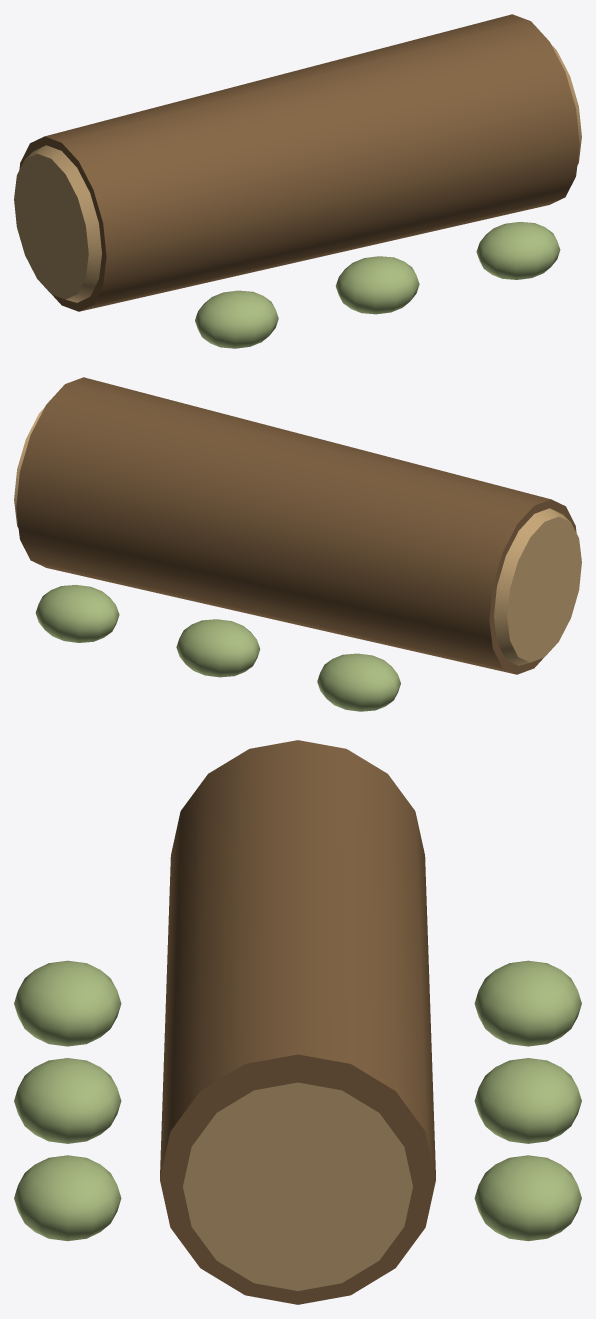
File: fixture-zebra-enrichment-v01.glb
3 renders of one model, top to bottom at view 1: azimuth 30°, elevation 25°; view 2: azimuth 150°, elevation 25°; view 3: azimuth 270°, elevation 25°, orthographic. The views are drawn at different scales.
Visible parts, largest first — view 1: enrichment-log, merged-static, portion-4, portion-3, portion-5; view 2: enrichment-log, merged-static, portion-1, portion-0, portion-2; view 3: enrichment-log, merged-static, portion-2, portion-5, portion-0, portion-3, portion-1, portion-4.
Boxes of the visible parts, left/top/right/bottom form: enrichment-log: left=19, top=14, right=579, bottom=311; merged-static: left=14, top=44, right=581, bottom=302; portion-4: left=335, top=256, right=419, bottom=314; portion-3: left=195, top=290, right=278, bottom=348; portion-5: left=476, top=222, right=560, bottom=279; enrichment-log: left=16, top=377, right=576, bottom=674; merged-static: left=14, top=407, right=581, bottom=665; portion-1: left=176, top=619, right=260, bottom=677; portion-0: left=317, top=653, right=400, bottom=711; portion-2: left=35, top=585, right=119, bottom=642; enrichment-log: left=160, top=740, right=435, bottom=1304; merged-static: left=183, top=1082, right=412, bottom=1290; portion-2: left=474, top=1155, right=581, bottom=1241; portion-5: left=14, top=1155, right=121, bottom=1241; portion-0: left=474, top=960, right=581, bottom=1046; portion-3: left=14, top=960, right=121, bottom=1046; portion-1: left=474, top=1058, right=581, bottom=1143; portion-4: left=14, top=1058, right=121, bottom=1143.
Size of the model in its own units: 0.522 by 0.18 by 0.37.
